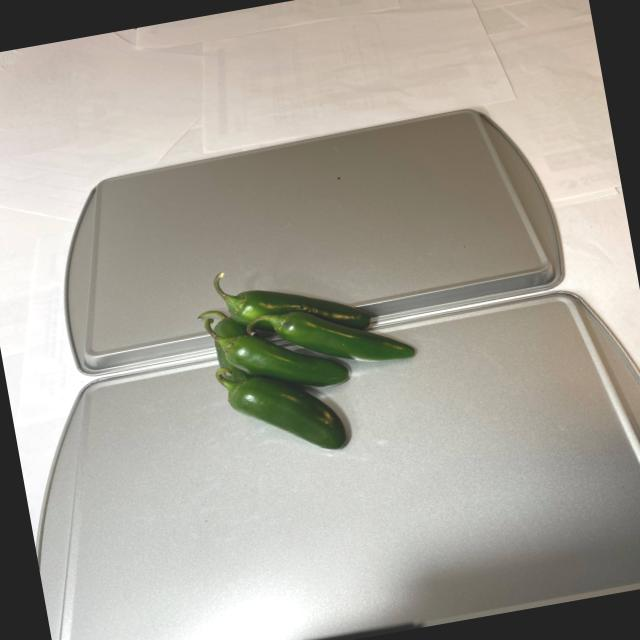chilli: (183, 233, 434, 472)
